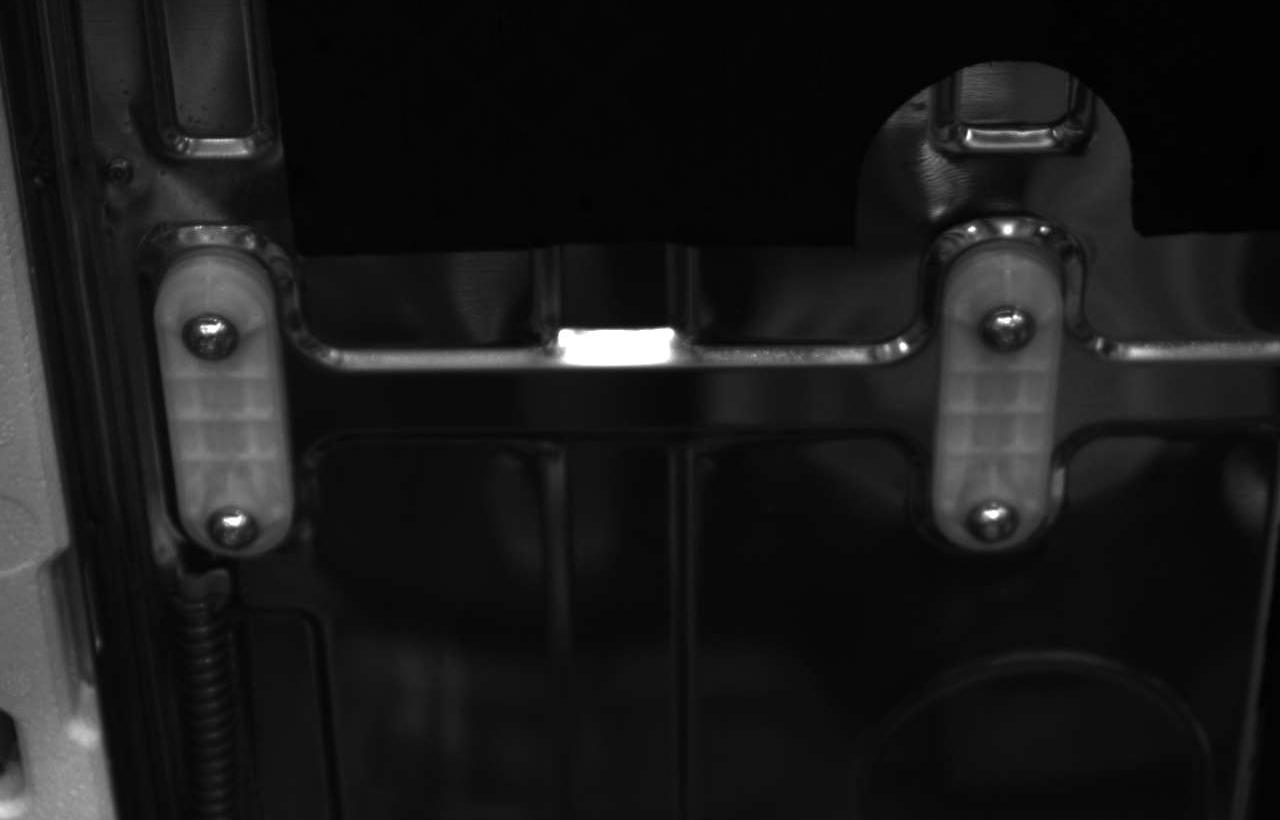vida-ok: (179, 302, 250, 369), (961, 479, 1027, 548), (976, 292, 1043, 359), (204, 497, 270, 555)
